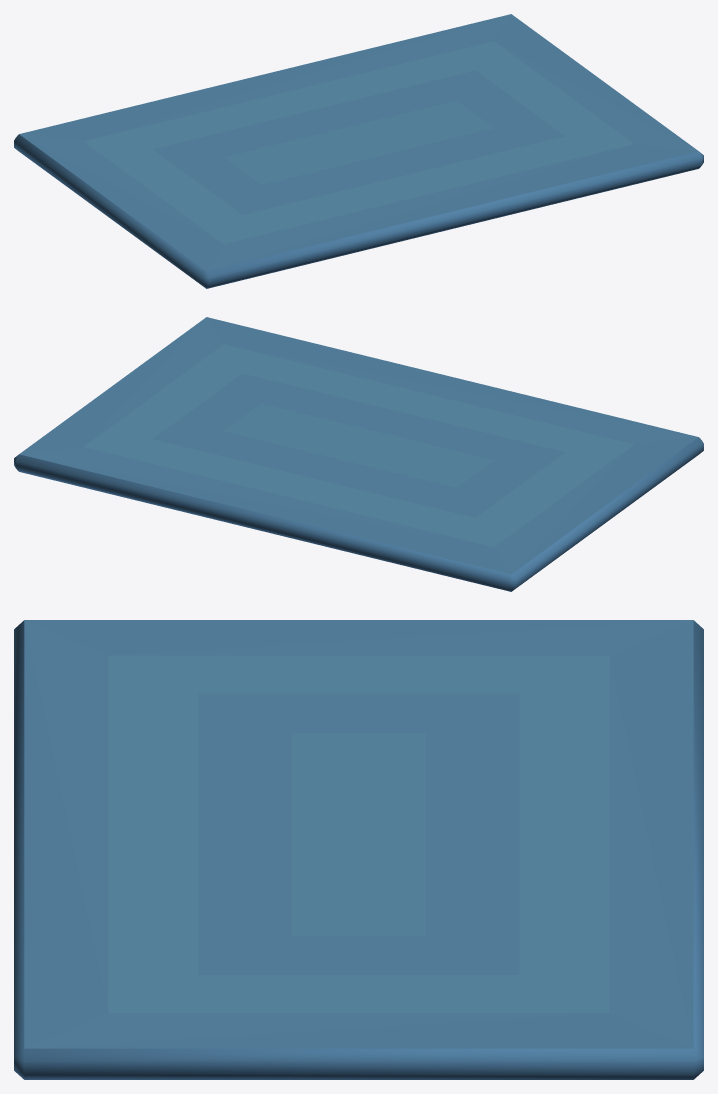
File: kk_furniture_rug_rectangle_stripes_B.glb
3 renders of one model, top to bottom at view 1: azimuth 30°, elevation 25°; view 2: azimuth 150°, elevation 25°; view 3: azimuth 270°, elevation 25°, orthographic. The views are drawn at different scales.
Visible parts, largest first — view 1: kk_furniture_rug_rectangle_stripes_B; view 2: kk_furniture_rug_rectangle_stripes_B; view 3: kk_furniture_rug_rectangle_stripes_B.
Boxes of the visible parts, x1=… form: kk_furniture_rug_rectangle_stripes_B: x1=14, y1=14, x2=703, y2=288; kk_furniture_rug_rectangle_stripes_B: x1=14, y1=317, x2=703, y2=591; kk_furniture_rug_rectangle_stripes_B: x1=14, y1=620, x2=703, y2=1079.
Bounding box in the file's own units: 3 × 0.1 × 2.
